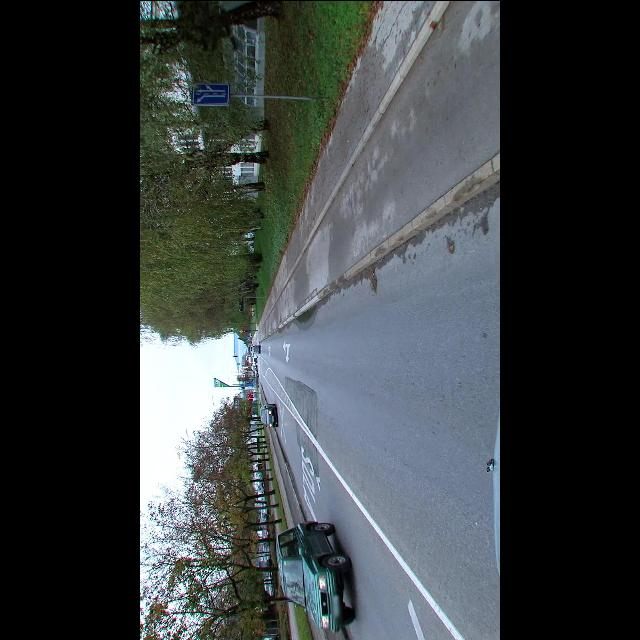Rectangle: (190, 82, 230, 105)
